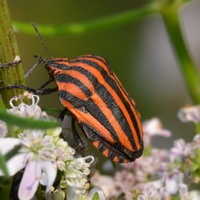insect: (42, 55, 142, 161)
